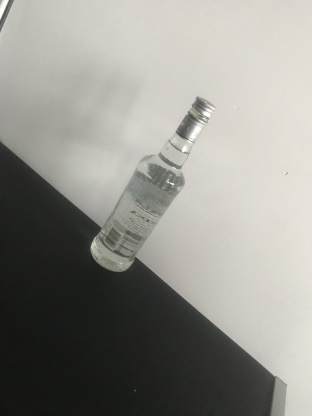nakretka: (174, 92, 217, 145)
